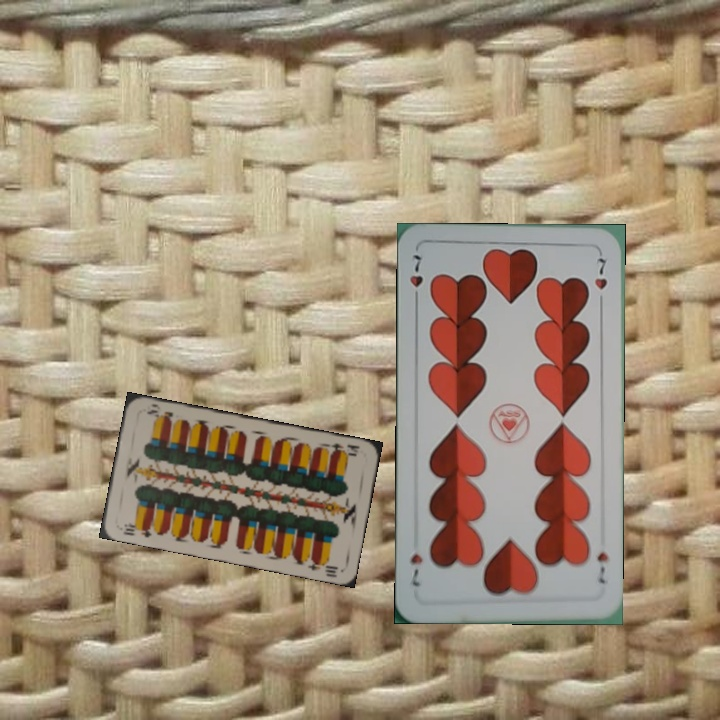E10: (324, 439, 362, 459), (119, 519, 154, 540)
H7: (405, 251, 425, 307), (593, 548, 611, 586)
